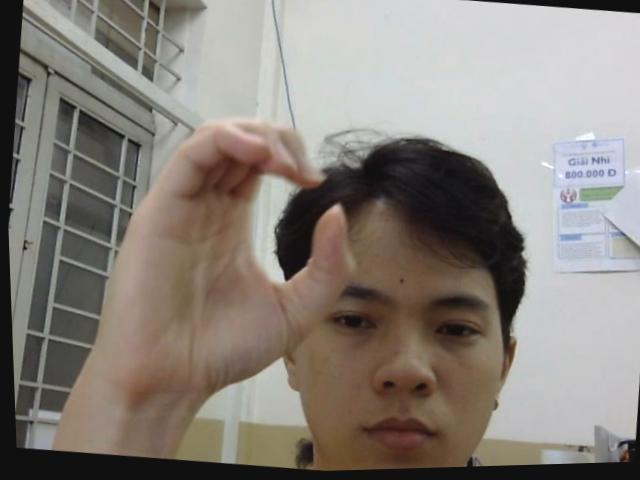C: (85, 99, 374, 411)
